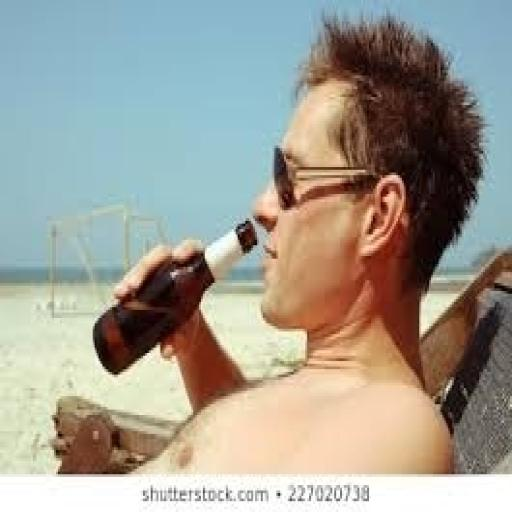drinking: (91, 216, 257, 374)
